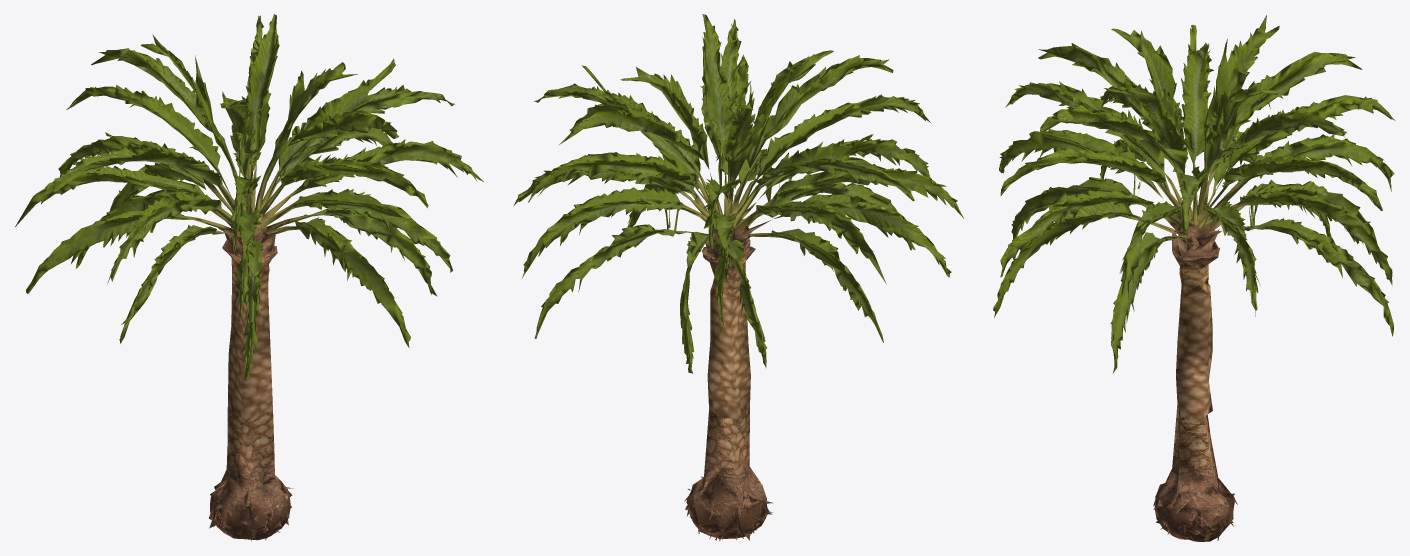
Rendered from palm.glb.
3 views of the same model, side by side, from view 1: azimuth 30°, elevation 25°; view 2: azimuth 150°, elevation 25°; view 3: azimuth 270°, elevation 25° (orthographic).
Visible parts, largest first — view 1: tripo_node_c5bc1c6a-415f-48fa-a103-11145dbafa6c; view 2: tripo_node_c5bc1c6a-415f-48fa-a103-11145dbafa6c; view 3: tripo_node_c5bc1c6a-415f-48fa-a103-11145dbafa6c.
Part boxes in pixels (x1,y1,x2,y2): tripo_node_c5bc1c6a-415f-48fa-a103-11145dbafa6c: (15,14,483,541); tripo_node_c5bc1c6a-415f-48fa-a103-11145dbafa6c: (513,14,963,541); tripo_node_c5bc1c6a-415f-48fa-a103-11145dbafa6c: (993,15,1395,541).
Size of the model in its own units: 0.8535 by 0.9985 by 0.742.
Materials: 1 (1 with a texture image).
